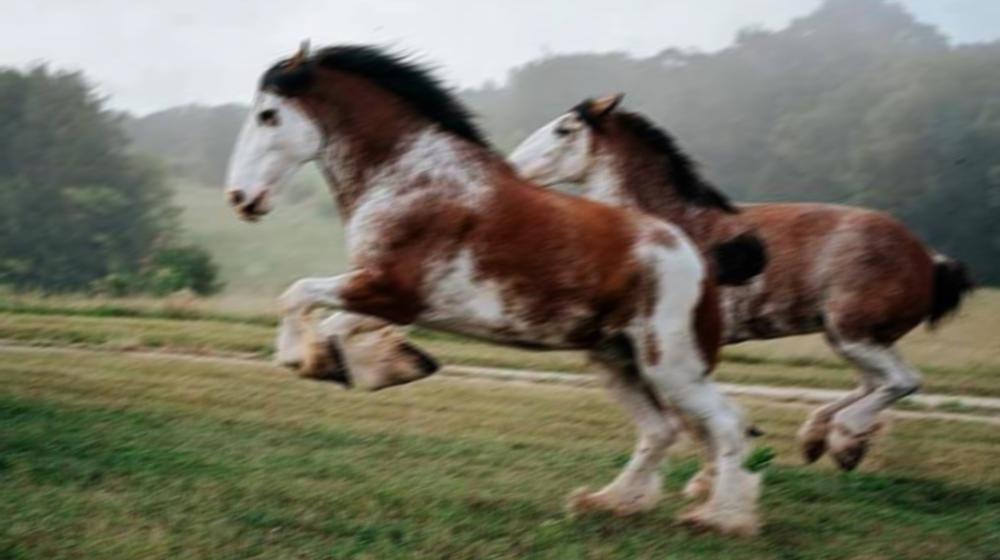horse: (223, 37, 767, 538), (503, 90, 977, 485)
